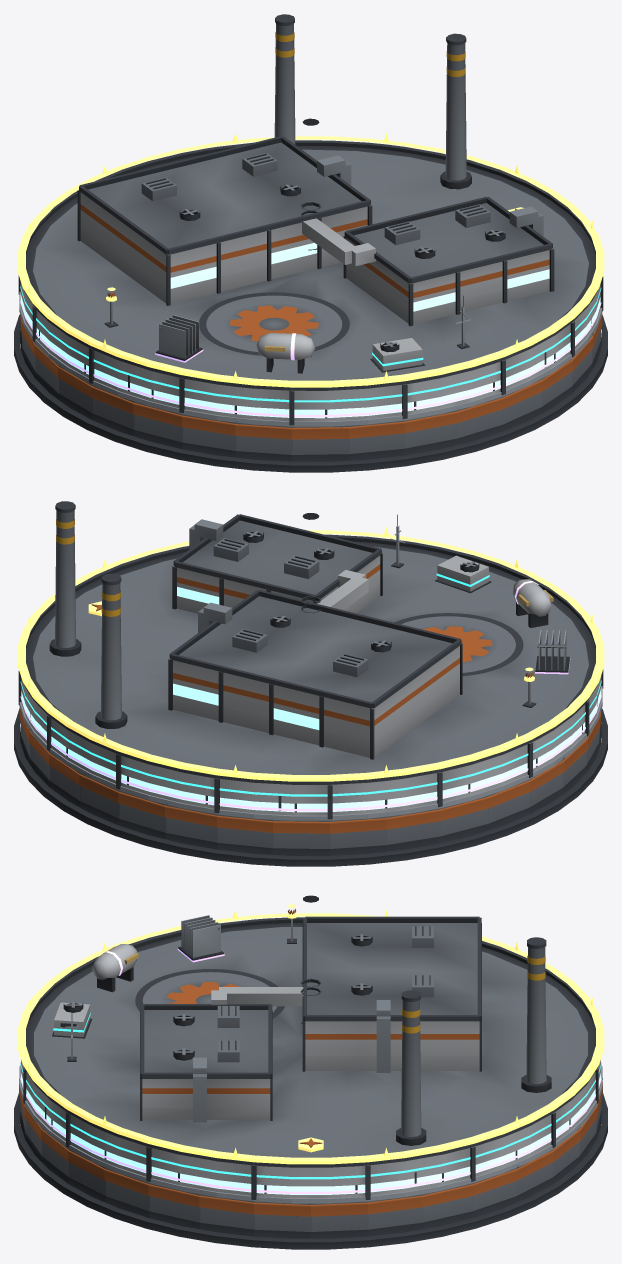
The model's file is electronics_fab_l_far.glb.
3 views of the same model, one above another, from view 1: azimuth 30°, elevation 25°; view 2: azimuth 150°, elevation 25°; view 3: azimuth 270°, elevation 25° (orthographic).
Visible parts, largest first — view 1: Roof, Base, L5, L4, L2, L3; view 2: Roof, Base, L5, L4, L2, L3; view 3: Roof, Base, L5, L4, L2, L3.
Boxes of the visible parts, x1,y1,x2,y2 form: Roof: [18, 14, 603, 425]; Base: [14, 313, 607, 472]; L5: [17, 133, 604, 387]; L4: [20, 301, 601, 417]; L2: [19, 292, 602, 426]; L3: [20, 248, 601, 402]; Roof: [18, 501, 603, 819]; Base: [14, 707, 607, 866]; L5: [17, 527, 604, 781]; L4: [20, 579, 601, 811]; L2: [19, 514, 602, 820]; L3: [20, 555, 601, 796]; Roof: [21, 895, 600, 1199]; Base: [14, 1078, 607, 1249]; L5: [17, 904, 604, 1164]; L4: [20, 915, 601, 1193]; L2: [19, 1009, 602, 1203]; L3: [20, 1001, 601, 1179].
Bounding box in the file's own units: 18.96 × 7.92 × 18.96.
